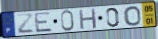0: (60, 9, 76, 32), (106, 7, 120, 28)
E: (33, 11, 54, 34)
H: (78, 8, 98, 31)
O: (122, 5, 142, 27)
Z: (16, 14, 35, 35)
